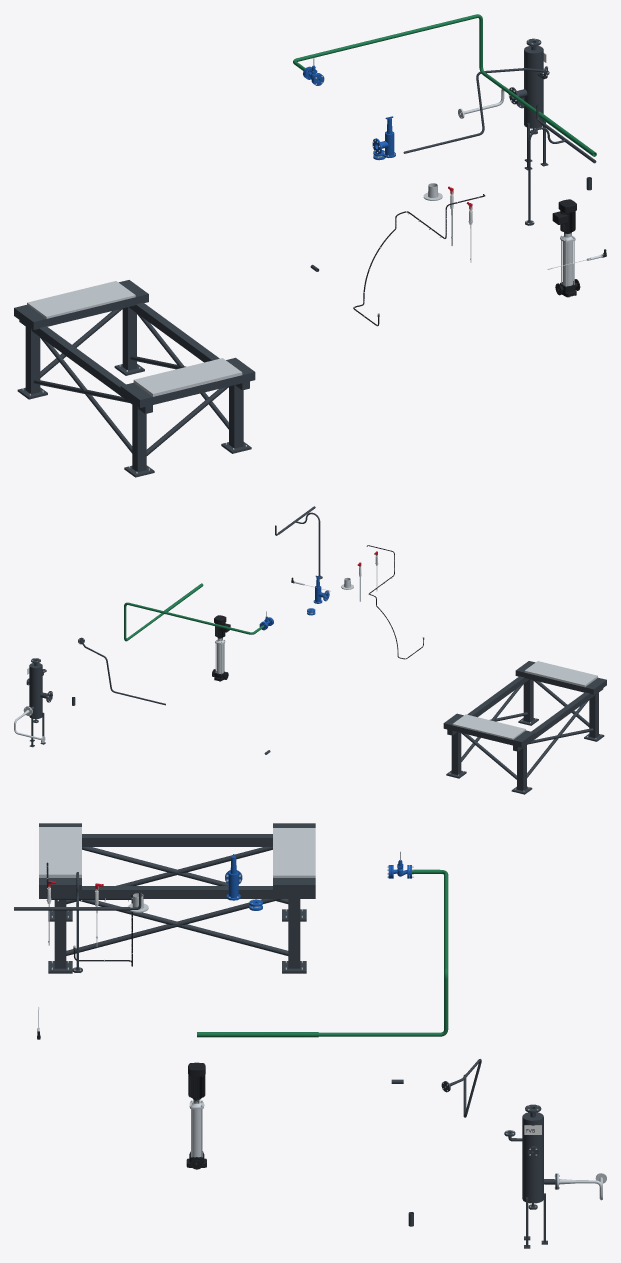
File: s4000-5-DwVfDPKx.glb
3 renders of one model, top to bottom at view 1: azimuth 30°, elevation 25°; view 2: azimuth 150°, elevation 25°; view 3: azimuth 270°, elevation 25°, orthographic. The views are drawn at different scales.
Parts seen in each view (by area): view 1: deaerator_support / dark, deaerator_support / steel, separator_fv8 / dark, to_direct / green, pressure_header / dark, tds_without_fv / dark, pump_1 CAD solid 15; view 2: deaerator_support / dark, deaerator_support / steel, separator_fv8 / dark, to_direct / green, pressure_header / dark; view 3: deaerator_support / dark, deaerator_support / steel, separator_fv8 / dark, to_direct / green, pressure_header / dark, pump_delivery / green, pump_1 CAD solid 15.
Boxes of the visible parts, x1,y1,x2,y2 form: deaerator_support / dark: (14,280,255,477); deaerator_support / steel: (22,281,246,473); separator_fv8 / dark: (508,38,549,170); to_direct / green: (293,14,538,113); pressure_header / dark: (525,104,596,225); tds_without_fv / dark: (403,66,547,153); pump_1 CAD solid 15: (552,199,576,232); deaerator_support / dark: (443,661,606,794); deaerator_support / steel: (449,661,601,791); separator_fv8 / dark: (26,658,52,747); to_direct / green: (124,602,264,641); pressure_header / dark: (275,506,322,579); deaerator_support / dark: (39,823,315,973); deaerator_support / steel: (39,827,315,969); separator_fv8 / dark: (504,1104,557,1248); to_direct / green: (318,869,448,1036); pressure_header / dark: (14,872,141,972); pump_delivery / green: (197,1032,318,1037); pump_1 CAD solid 15: (188,1062,205,1099).
Size of the model in its own units: 8.21 by 2.96 by 6.08.
